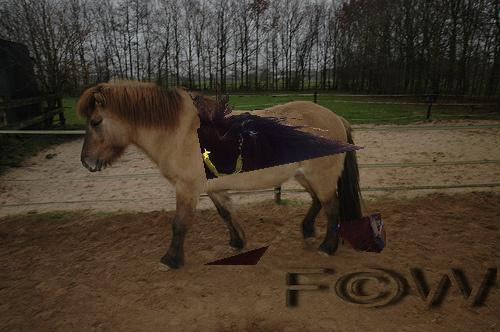tampered: (190, 79, 386, 265)
